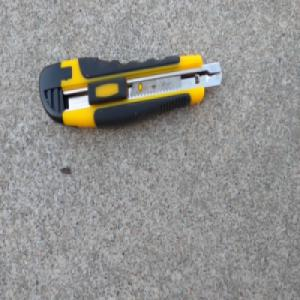Cutter: (37, 51, 223, 130)
